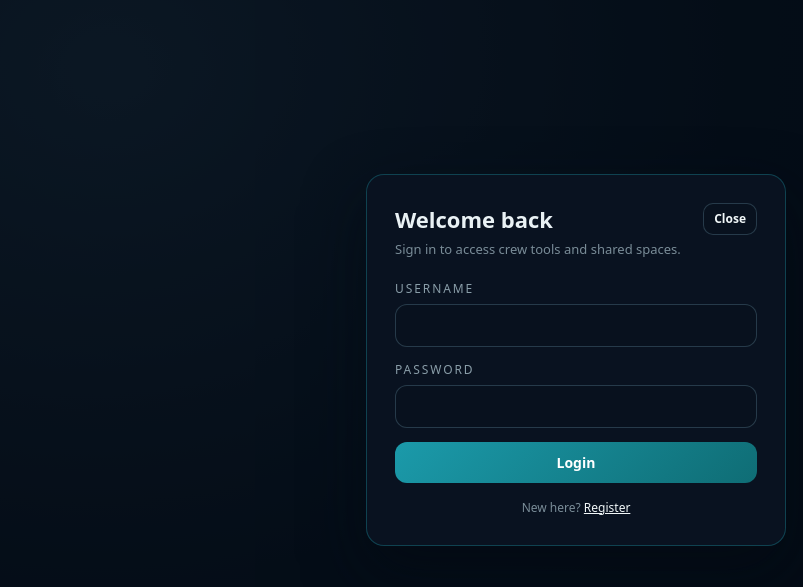
Scenario: AccessModal › shows login error on exception
This screenshot has width=803, height=587.
Step 1. Type "captain" into the field labelled "Username" → point(576, 325), box [395,304,757,347]
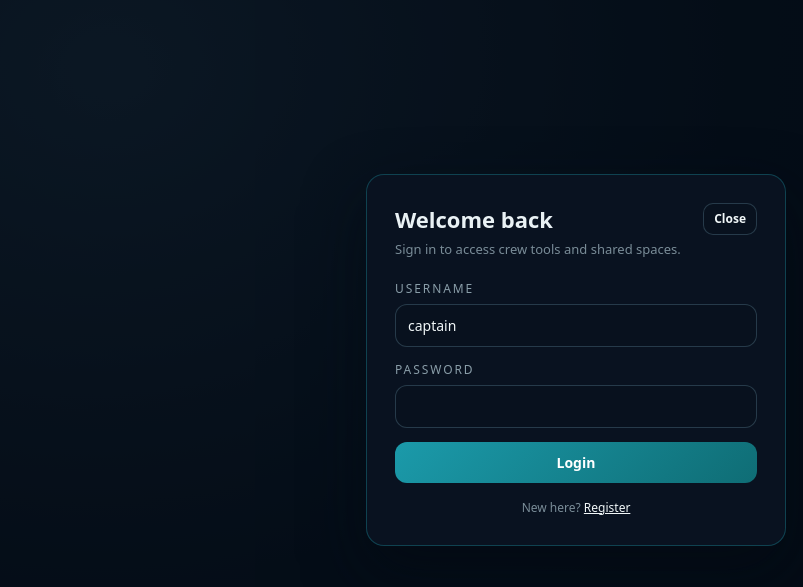
Step 2. Type "secret" into the password field labelled "Password" → point(576, 406), box [395,385,757,428]
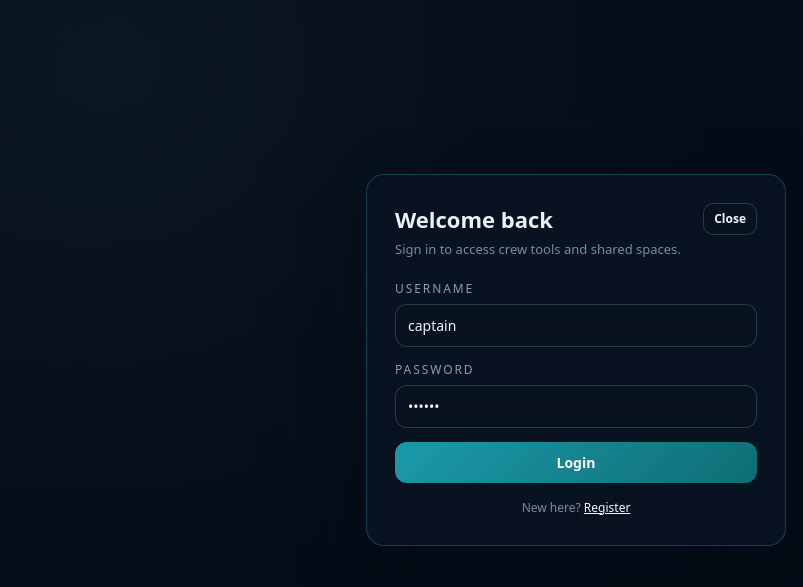
Step 3. Click the button "Login" → point(576, 462), box [395,442,757,483]
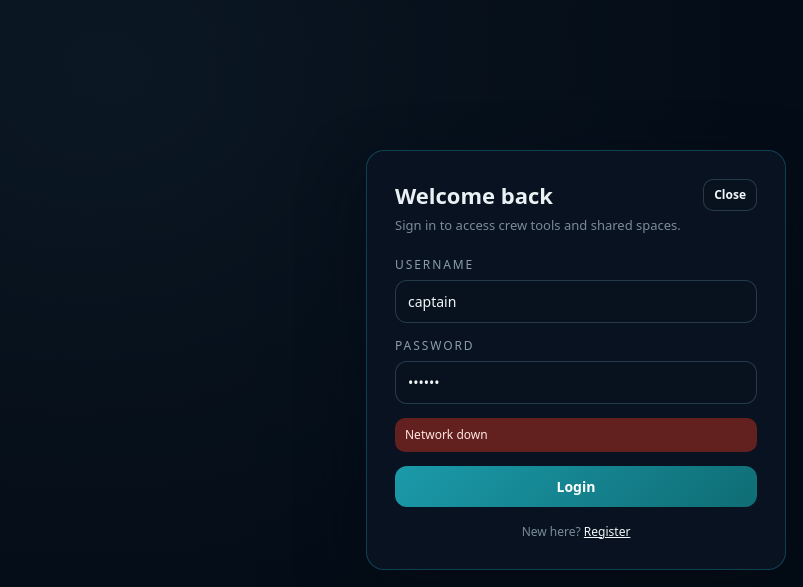
Result: the text "Network down" is shown at [395,418,757,452]
